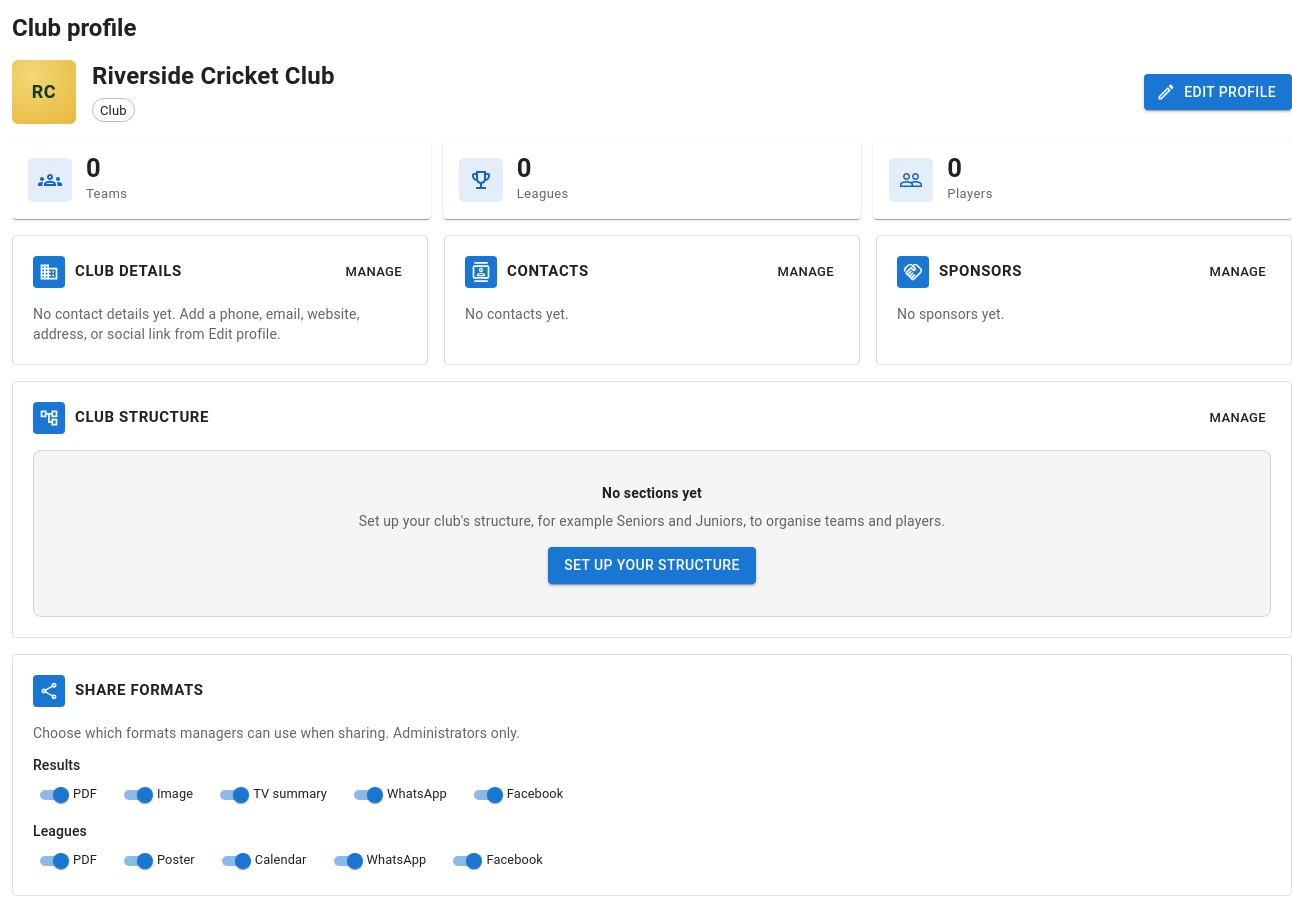
ClubOverviewPage share formats card › shows the server 400 message when the save is refused
Click the checkbox labelled "Calendar" at (264, 860), box [222,852,306,868]
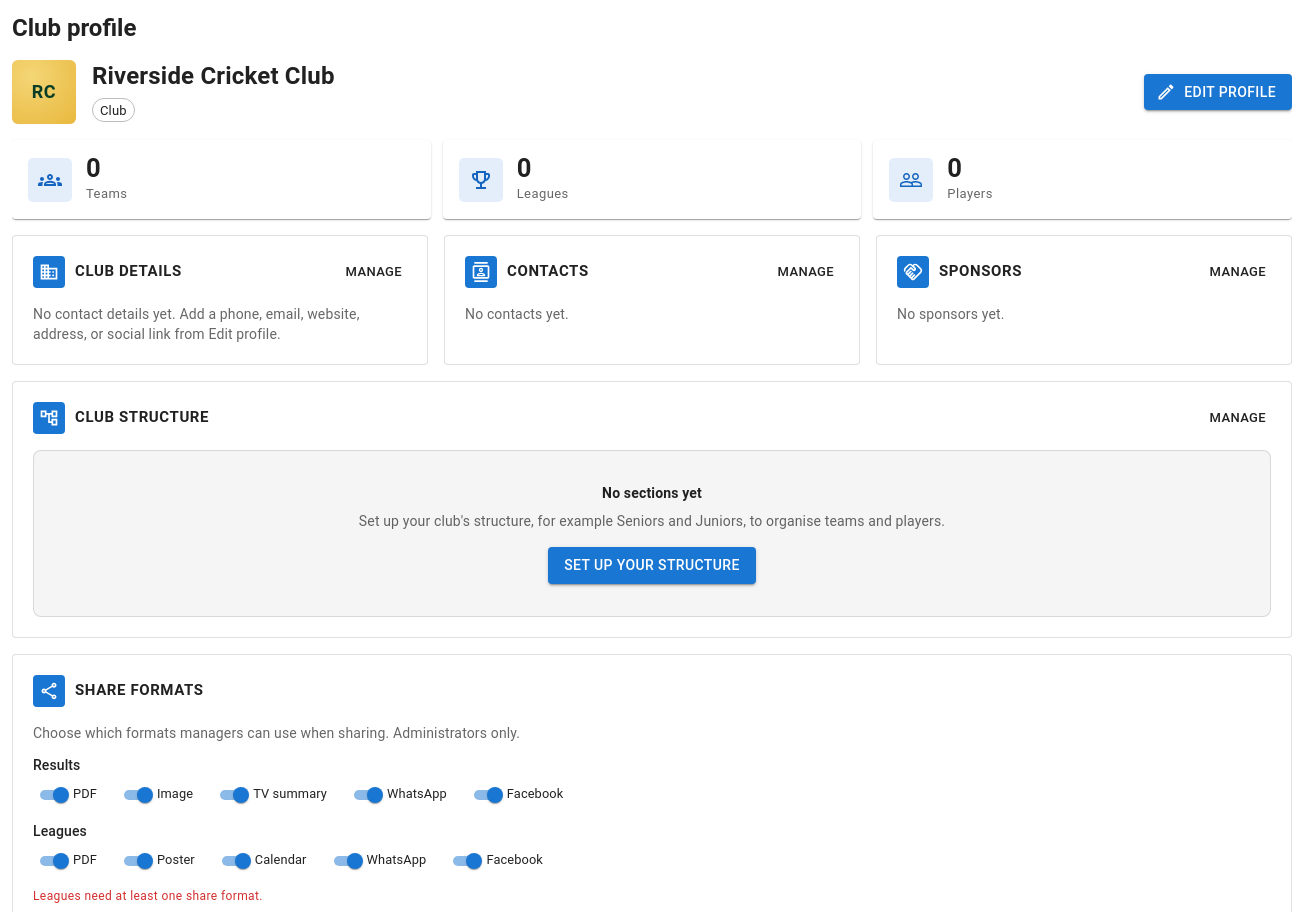
Now the message reads "Leagues need at least one share format.", box [33,888,263,902]
